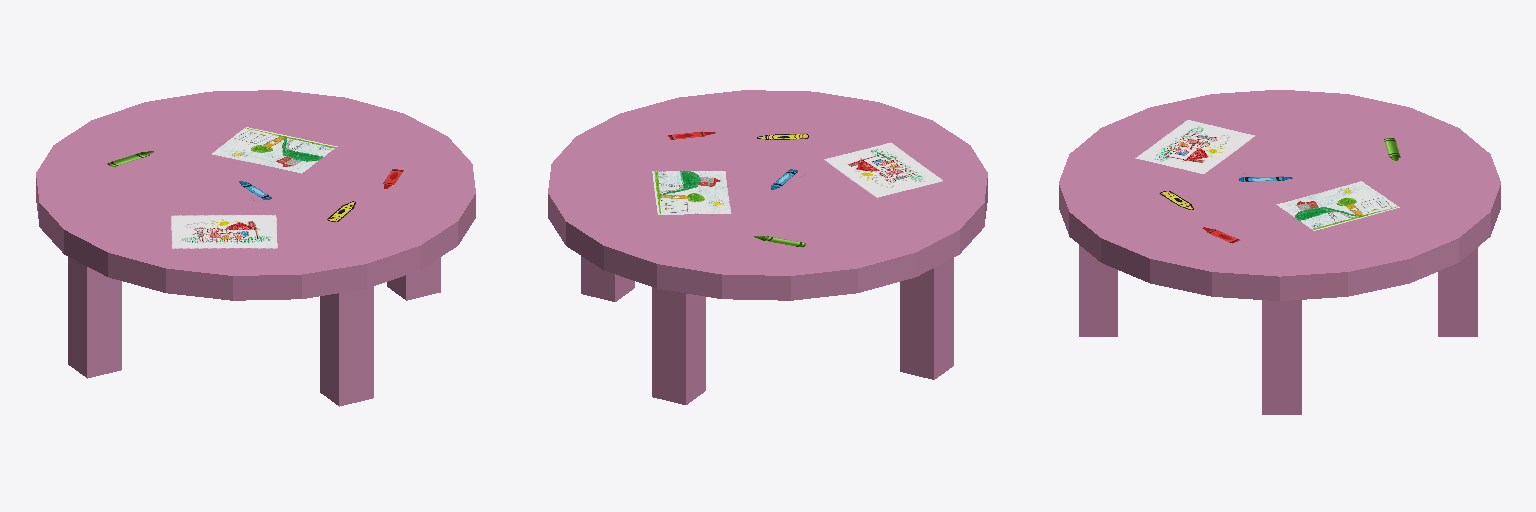
3 renders of one model, left to right at view 1: azimuth 30°, elevation 25°; view 2: azimuth 150°, elevation 25°; view 3: azimuth 270°, elevation 25°, orthographic.
Parts seen in each view (by area): view 1: pasted__pasted__pCube1; view 2: pasted__pasted__pCube1; view 3: pasted__pasted__pCube1.
Boxes of the visible parts, x1,y1,x2,y2 form: pasted__pasted__pCube1: [36, 90, 475, 406]; pasted__pasted__pCube1: [548, 90, 987, 404]; pasted__pasted__pCube1: [1059, 90, 1500, 414].
Size of the model in its own units: 2.3 by 0.8373 by 2.3.
1 materials, 1 textured.